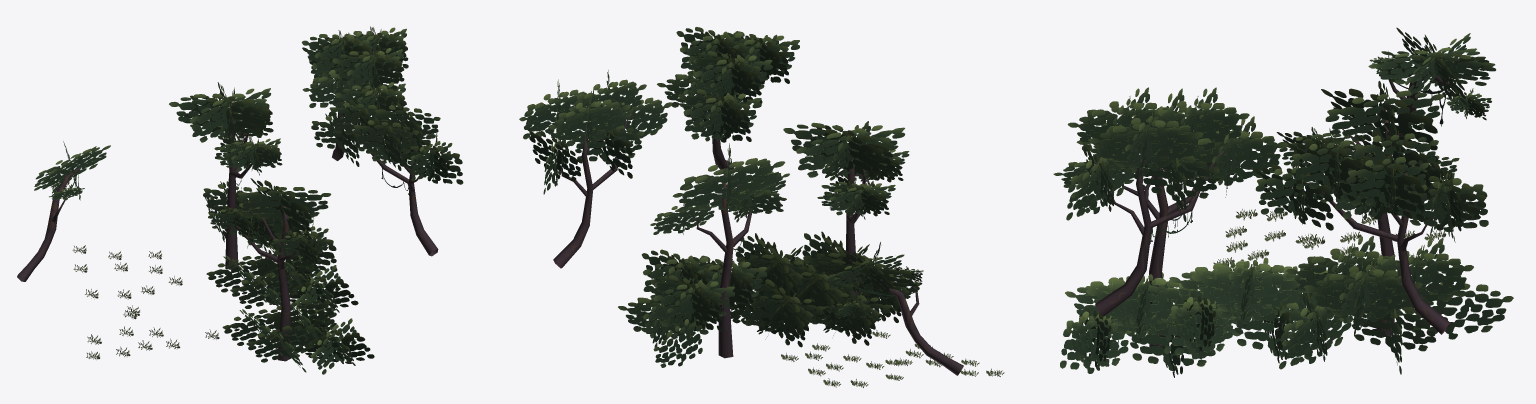
File: Selvas03.fbx
3 renders of one model, left to right at view 1: azimuth 30°, elevation 25°; view 2: azimuth 150°, elevation 25°; view 3: azimuth 270°, elevation 25°, orthographic. The views are drawn at different scales.
Visible parts, largest first — view 1: Selvas03; view 2: Selvas03; view 3: Selvas03.
Boxes of the visible parts, left/top/right/bottom form: Selvas03: left=17, top=26, right=463, bottom=374; Selvas03: left=519, top=27, right=1004, bottom=387; Selvas03: left=1053, top=27, right=1513, bottom=377.
Size of the model in its own units: 142 by 84.9 by 108.
